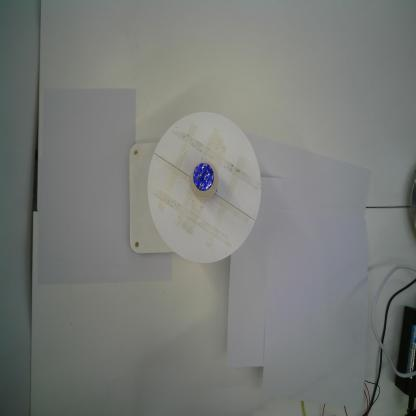Milk: (190, 160, 218, 202)
